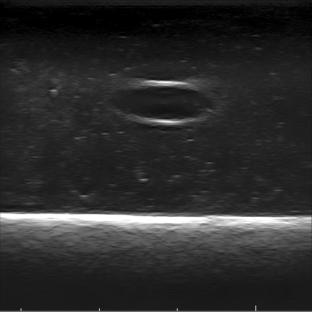vessel: (114, 81, 214, 126)
